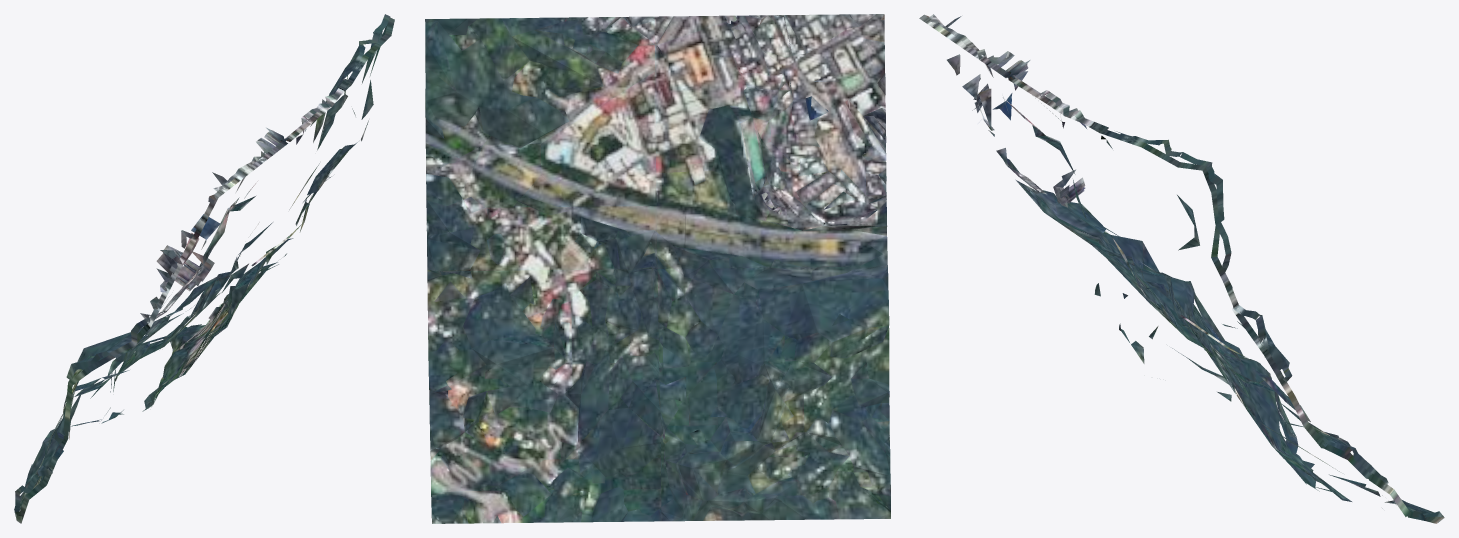
3 views of the same model, side by side, from view 1: azimuth 30°, elevation 25°; view 2: azimuth 150°, elevation 25°; view 3: azimuth 270°, elevation 25° (orthographic). The views are drawn at different scales.
Bounding box in the file's own units: 1224 × 1121 × 1206.
Materials: 2 (2 with a texture image).
